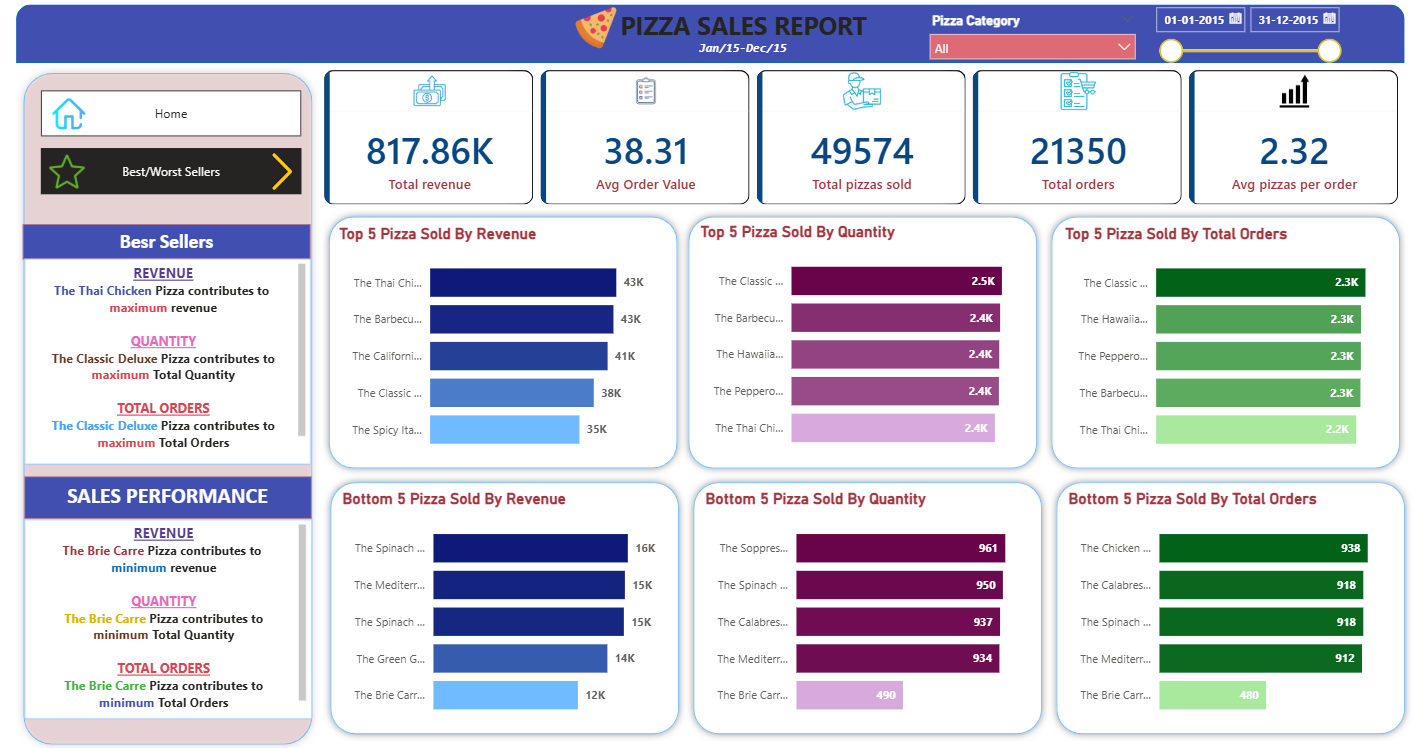

What the dashboard file says about the page in this screenshot:
{"tool":"powerbi","page":{"name":"Best/Worst Sellers","canvas":[1550,820],"ordinal":1},"visuals":[{"type":"cardVisual","fields":{"Data":["pizza_sales.Total revenue","pizza_sales.Avg Order Value","pizza_sales.Total pizzas sold","pizza_sales.Total orders","pizza_sales.Avg pizzas per order"]},"box":[350,73.3,1180,156.7],"z":0},{"type":"shape","box":[20.1,6.7,1509.1,63.7],"z":1000},{"type":"textbox","box":[650.6,6.7,318.6,63.7],"z":2000},{"type":"textbox","box":[729.4,38.6,159.3,31.9],"z":3000},{"type":"image","box":[620.4,8.4,58.7,46.9],"z":4000},{"type":"shape","box":[350.8,228.8,395,289.8],"z":5000},{"type":"shape","box":[20,74,330,746],"z":6000},{"type":"textbox","box":[27,245,313,38],"z":7000},{"type":"textbox","box":[28,520,312,46],"z":8000},{"type":"textbox","box":[28.3,283.3,311.7,223.3],"z":9000},{"type":"textbox","box":[28.1,567.3,312.6,217.2],"z":10000},{"type":"slicer","fields":{"Values":["pizza_sales.pizza_category"]},"box":[1003.4,10.2,244.1,57.6],"z":11000},{"type":"slicer","fields":{"Values":["pizza_sales.order_date"]},"box":[1246.7,0,221.7,85],"z":12000},{"type":"shape","box":[742.4,228.8,394.9,289.8],"z":13000},{"type":"shape","box":[1137.3,228.8,394.9,289.8],"z":14000},{"type":"shape","box":[352.5,518.6,394.9,289.8],"z":15000},{"type":"shape","box":[1142.4,518.6,394.9,289.8],"z":16000},{"type":"shape","box":[747.5,518.6,394.9,289.8],"z":17000},{"type":"barChart","title":"Top 5 Pizza Sold By Revenue","fields":{"Category":["pizza_sales.pizza_name"],"Y":["pizza_sales.Total revenue"]},"box":[366.1,245.8,362.7,261],"z":18000},{"type":"barChart","title":"Bottom 5 Pizza Sold By Revenue","fields":{"Category":["pizza_sales.pizza_name"],"Y":["pizza_sales.Total revenue"]},"box":[369.5,533.9,362.7,261],"z":19000},{"type":"barChart","title":"Top 5 Pizza Sold By Quantity","fields":{"Category":["pizza_sales.pizza_name"],"Y":["Sum(pizza_sales.quantity)"]},"box":[759.3,244.1,362.7,261],"z":20000},{"type":"barChart","title":"Bottom 5 Pizza Sold By Quantity","fields":{"Category":["pizza_sales.pizza_name"],"Y":["Sum(pizza_sales.quantity)"]},"box":[764.4,533.9,362.7,261],"z":21000},{"type":"barChart","title":"Top 5 Pizza Sold By Total Orders","fields":{"Category":["pizza_sales.pizza_name"],"Y":["pizza_sales.Total orders"]},"box":[1154.2,245.8,362.7,261],"z":22000},{"type":"barChart","title":"Bottom 5 Pizza Sold By Total Orders","fields":{"Category":["pizza_sales.pizza_name"],"Y":["pizza_sales.Total orders"]},"box":[1159.3,533.9,362.7,261],"z":23000},{"type":"pageNavigator","box":[45.8,100,283.1,50.8],"z":24000},{"type":"pageNavigator","box":[45.8,162.7,283.1,50.8],"z":25000},{"type":"image","box":[288.1,162.7,40.7,50.8],"z":26000},{"type":"image","box":[59.3,100,35.6,50.8],"z":27000},{"type":"image","box":[55.9,162.7,39,50.8],"z":28000}]}

Visuals, with their boxes in screenshot pixels (x1, y1, x2, y2), scaled from the page's 1550x820 canvas onto the 1421x748 screenshot:
cardVisual - pizza_sales.Total revenue x pizza_sales.Avg Order Value: <region>321, 67, 1403, 210</region>
shape: <region>18, 6, 1402, 64</region>
textbox: <region>596, 6, 889, 64</region>
textbox: <region>669, 35, 815, 64</region>
image: <region>569, 8, 623, 50</region>
shape: <region>322, 209, 684, 473</region>
shape: <region>18, 68, 321, 747</region>
textbox: <region>25, 223, 312, 258</region>
textbox: <region>26, 474, 312, 516</region>
textbox: <region>26, 258, 312, 462</region>
textbox: <region>26, 517, 312, 716</region>
slicer - pizza_sales.pizza_category: <region>920, 9, 1144, 62</region>
slicer - pizza_sales.order_date: <region>1143, 0, 1346, 78</region>
shape: <region>681, 209, 1043, 473</region>
shape: <region>1043, 209, 1405, 473</region>
shape: <region>323, 473, 685, 737</region>
shape: <region>1047, 473, 1409, 737</region>
shape: <region>685, 473, 1047, 737</region>
"Top 5 Pizza Sold By Revenue" barChart: <region>336, 224, 668, 462</region>
"Bottom 5 Pizza Sold By Revenue" barChart: <region>339, 487, 671, 725</region>
"Top 5 Pizza Sold By Quantity" barChart: <region>696, 223, 1029, 461</region>
"Bottom 5 Pizza Sold By Quantity" barChart: <region>701, 487, 1033, 725</region>
"Top 5 Pizza Sold By Total Orders" barChart: <region>1058, 224, 1391, 462</region>
"Bottom 5 Pizza Sold By Total Orders" barChart: <region>1063, 487, 1395, 725</region>
pageNavigator: <region>42, 91, 302, 138</region>
pageNavigator: <region>42, 148, 302, 195</region>
image: <region>264, 148, 301, 195</region>
image: <region>54, 91, 87, 138</region>
image: <region>51, 148, 87, 195</region>
